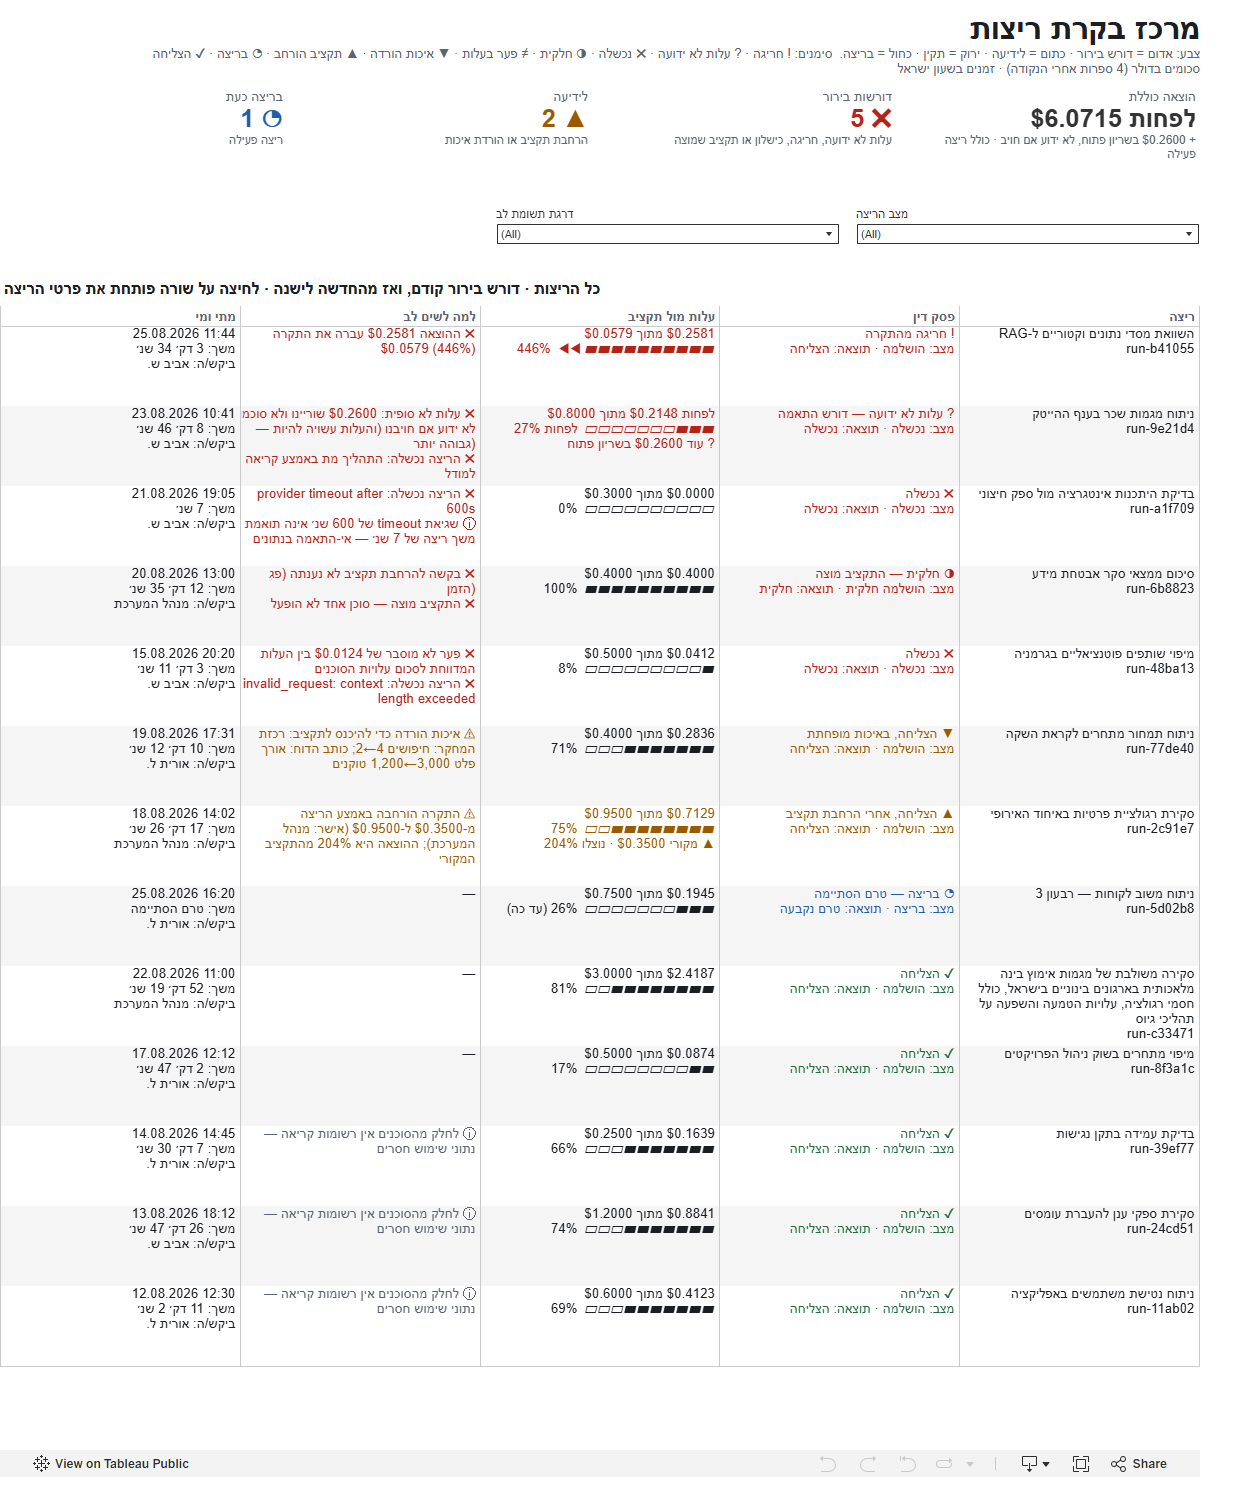

The page's visual inventory and layout, read from the dashboard file:
{"tool":"tableau","page":{"name":"סקירת ריצות","canvas":[1200,1450],"ordinal":0},"visuals":[{"type":"text","box":[24,8,1152,84]},{"type":"worksheet","title":"סיכום פעילות","mark":"Text","box":[24,96,276,104]},{"type":"worksheet","title":"סיכום לידיעה","mark":"Text","box":[316,96,276,104]},{"type":"worksheet","title":"סיכום דורש בירור","mark":"Text","box":[608,96,276,104]},{"type":"worksheet","title":"סיכום הוצאה","mark":"Text","box":[900,96,276,104]},{"type":"filter","title":"רשימת ריצות","param":"[federated.cells].[none:tone_he:nk]","box":[500,212,330,56]},{"type":"filter","title":"רשימת ריצות","param":"[federated.cells].[none:status_he:nk]","box":[846,212,330,56]},{"type":"worksheet","title":"רשימת ריצות","mark":"Text","rows":["row_order"],"cols":["col_pos","col_header"],"box":[24,276,1152,1160]}]}

Visuals, with their boxes on the page's 1200x1450 design canvas (x1, y1, x2, y2). These are canvas units, not pixel positions in the 1240x1500 screenshot, which may show the page scaled, cropped or inside an application window:
text: bbox=[24, 8, 1176, 92]
"סיכום פעילות" worksheet (Text marks): bbox=[24, 96, 300, 200]
"סיכום לידיעה" worksheet (Text marks): bbox=[316, 96, 592, 200]
"סיכום דורש בירור" worksheet (Text marks): bbox=[608, 96, 884, 200]
"סיכום הוצאה" worksheet (Text marks): bbox=[900, 96, 1176, 200]
"רשימת ריצות" filter: bbox=[500, 212, 830, 268]
"רשימת ריצות" filter: bbox=[846, 212, 1176, 268]
"רשימת ריצות" worksheet (Text marks): bbox=[24, 276, 1176, 1436]
